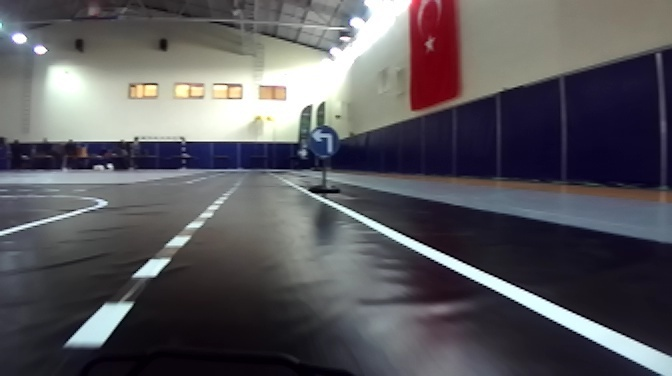sola_donus: (303, 121, 341, 158)
